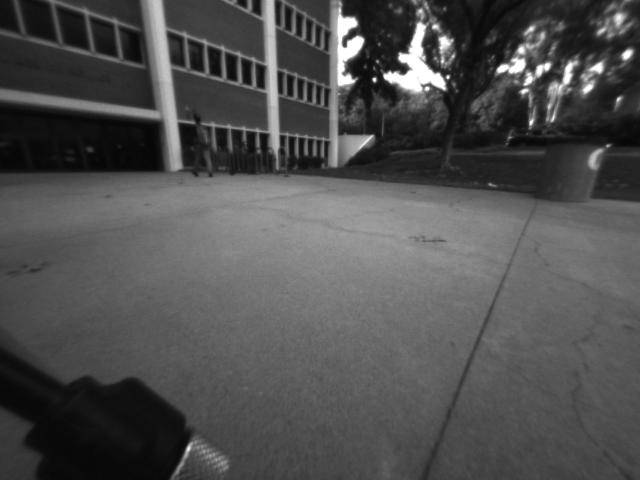trashcan: (532, 127, 616, 216)
